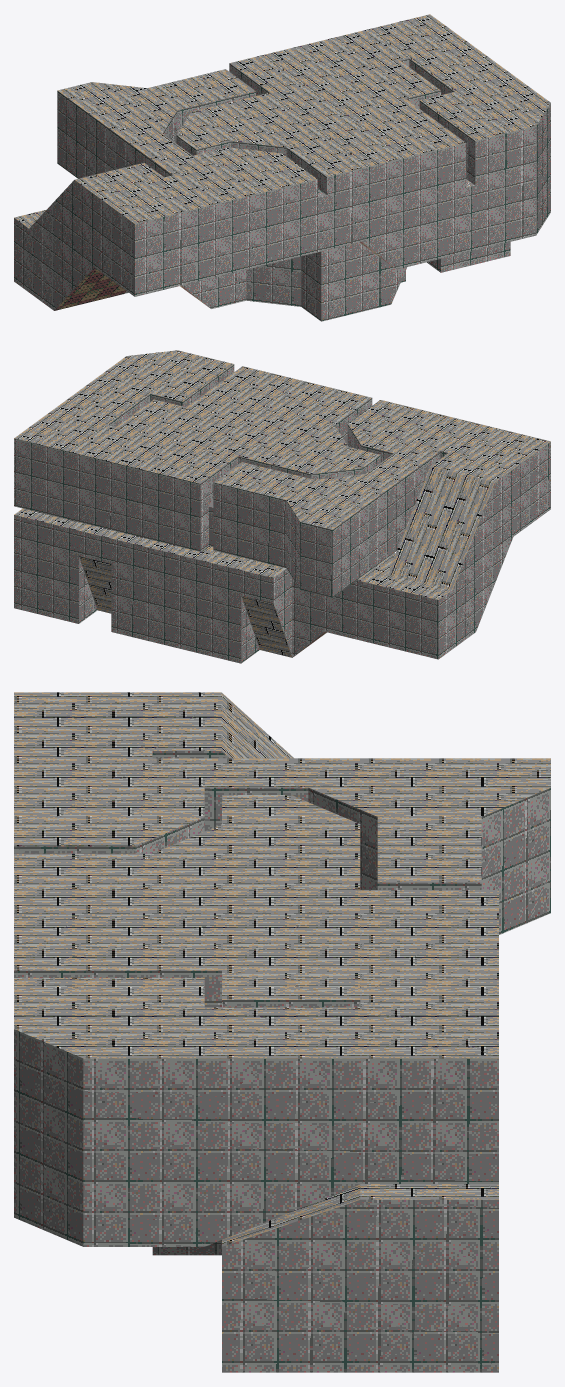
The model's file is simple_afps_level.obj.
The picture shows the model from 3 angles, top to bottom: view 1: azimuth 30°, elevation 25°; view 2: azimuth 150°, elevation 25°; view 3: azimuth 270°, elevation 25°; orthographic projection. The views are drawn at different scales.
Visible parts, largest first — view 1: Level; view 2: Level; view 3: Level.
Boxes of the visible parts, <box> form: Level: <box>14,14,550,321</box>; Level: <box>14,350,550,663</box>; Level: <box>14,692,550,1372</box>.
Bounding box in the file's own units: 15 × 6 × 9.3.
